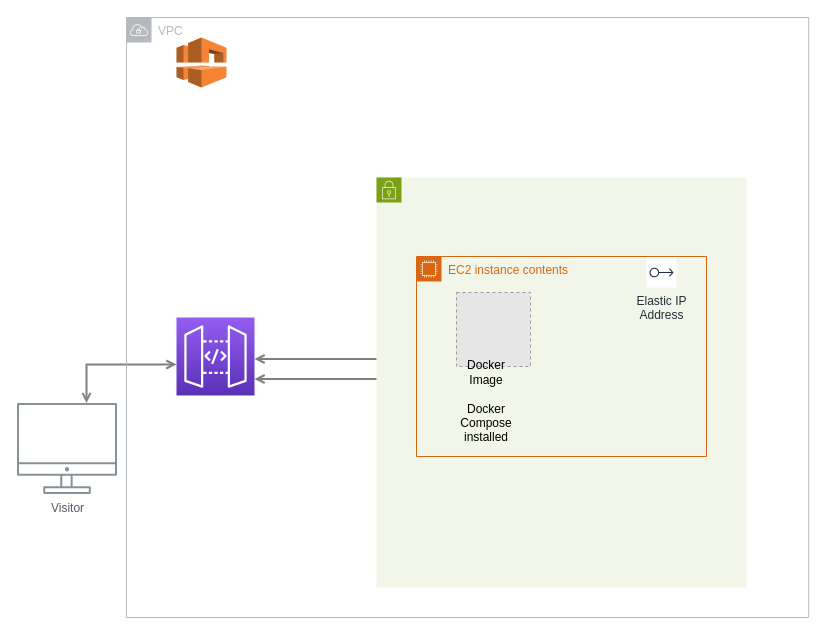
The diagram is 827 pixels wide and 635 high, and some of its shapes have lost their labels. Grey dashed boxes stand in for pictures. Here are the shapes that lost their labels. From the top down, the box of each, then its label:
(176, 316, 254, 396): Amazon API Gateway
(376, 176, 746, 588): Public subnet
